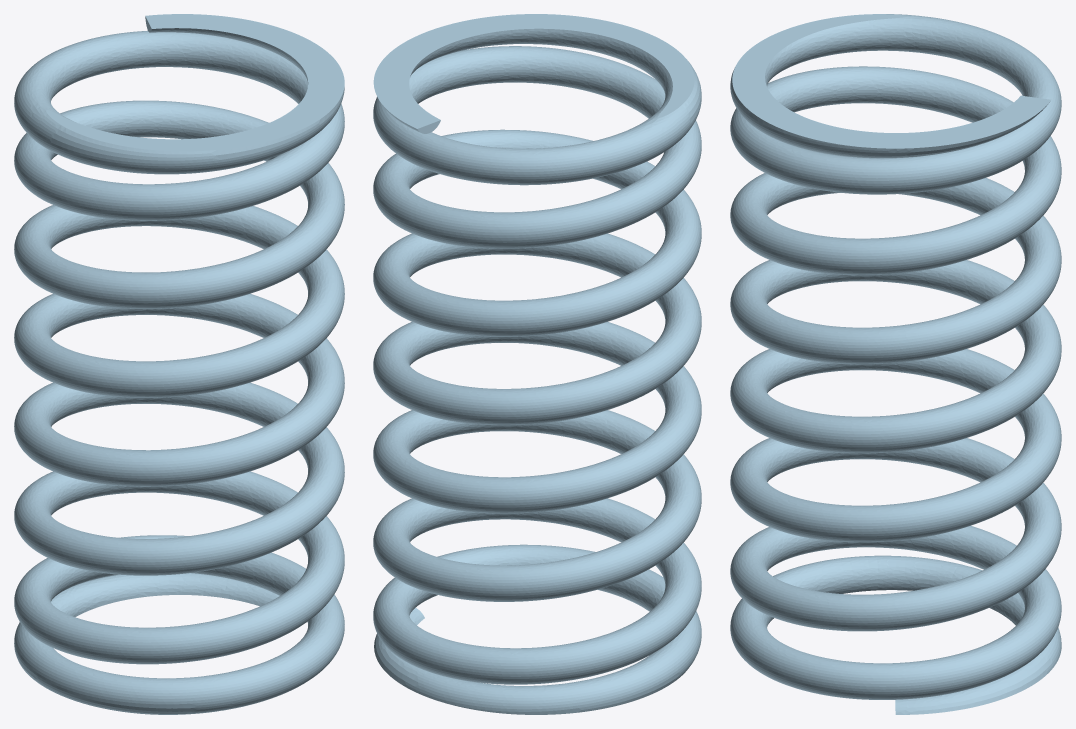
The model's file is t1_din2095_spring_kimi.glb.
3 renders of one model, left to right at view 1: azimuth 30°, elevation 25°; view 2: azimuth 150°, elevation 25°; view 3: azimuth 270°, elevation 25°, orthographic.
Parts seen in each view (by area): view 1: Spring_Continuous_VariablePitch_GroundEnds; view 2: Spring_Continuous_VariablePitch_GroundEnds; view 3: Spring_Continuous_VariablePitch_GroundEnds.
Boxes of the visible parts, box(x1,y1,x2,y2) form: Spring_Continuous_VariablePitch_GroundEnds: box(14, 14, 344, 714); Spring_Continuous_VariablePitch_GroundEnds: box(373, 14, 701, 714); Spring_Continuous_VariablePitch_GroundEnds: box(730, 14, 1061, 714).
Bounding box in the file's own units: 0.036 × 0.068 × 0.036.
